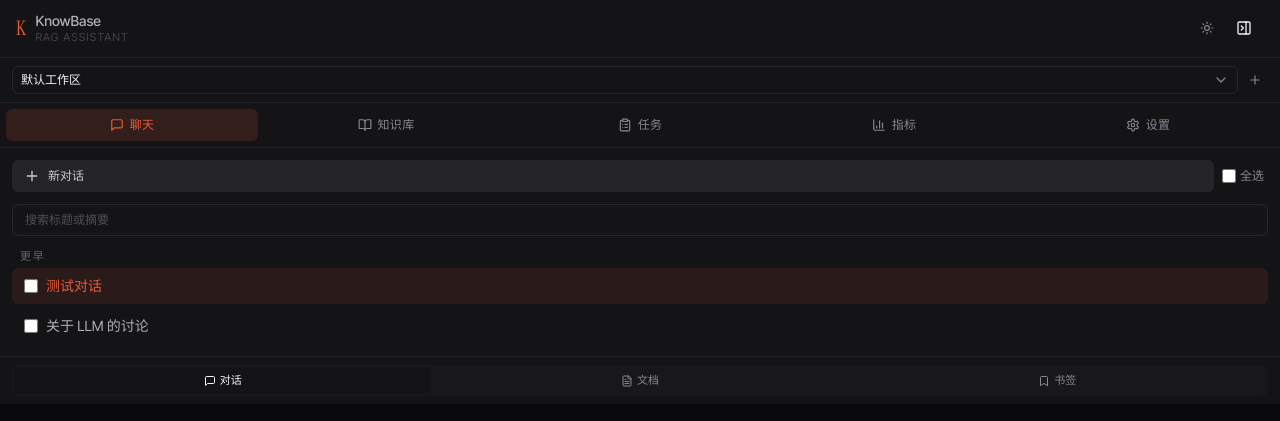
Test: Sidebar interactions › select all checkbox toggles all conversations
# 全选 checkbox 是第一个
Step 1. Click the checkbox labelled "全选" → (1229, 176), box left=1222, top=168, right=1236, bottom=182
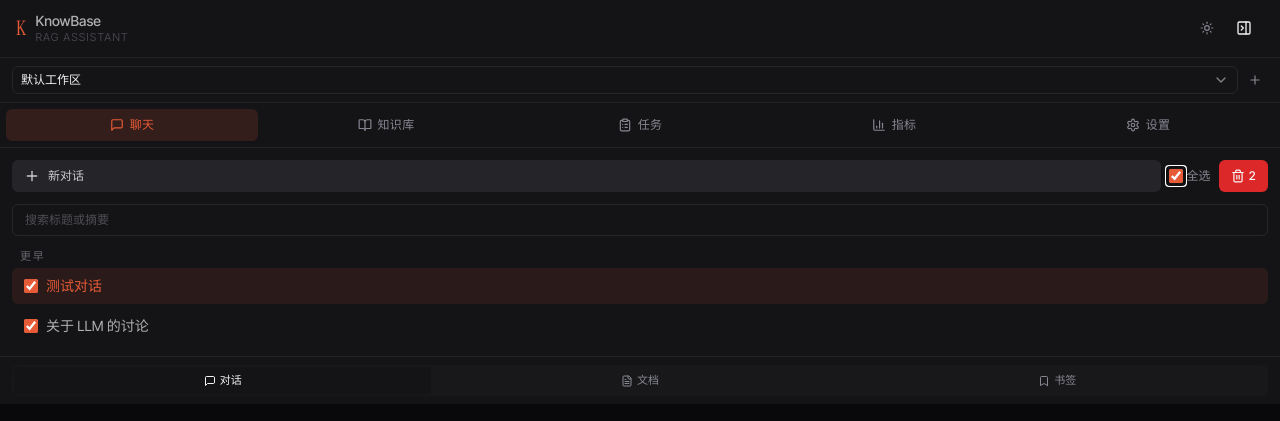
Result: the button "2" is shown at left=1219, top=160, right=1268, bottom=192
# 再点一下取消全选
Step 2. Click the checkbox labelled "全选" → (1176, 176), box left=1169, top=168, right=1183, bottom=182
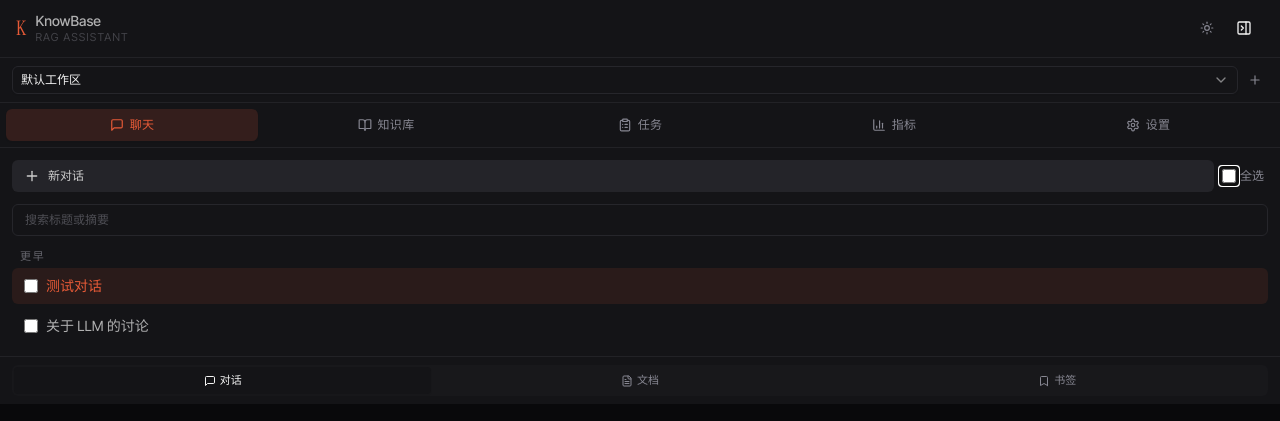
Result: the button "2" is gone
